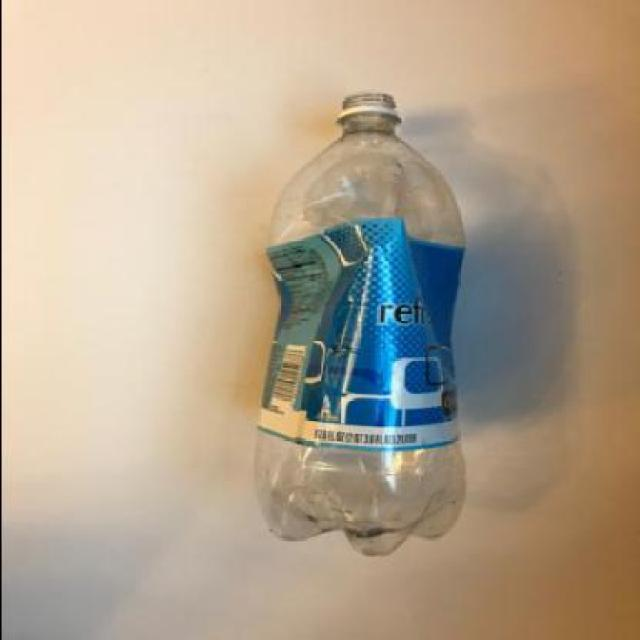PLASTIC: (256, 90, 466, 556), (255, 213, 467, 450)
